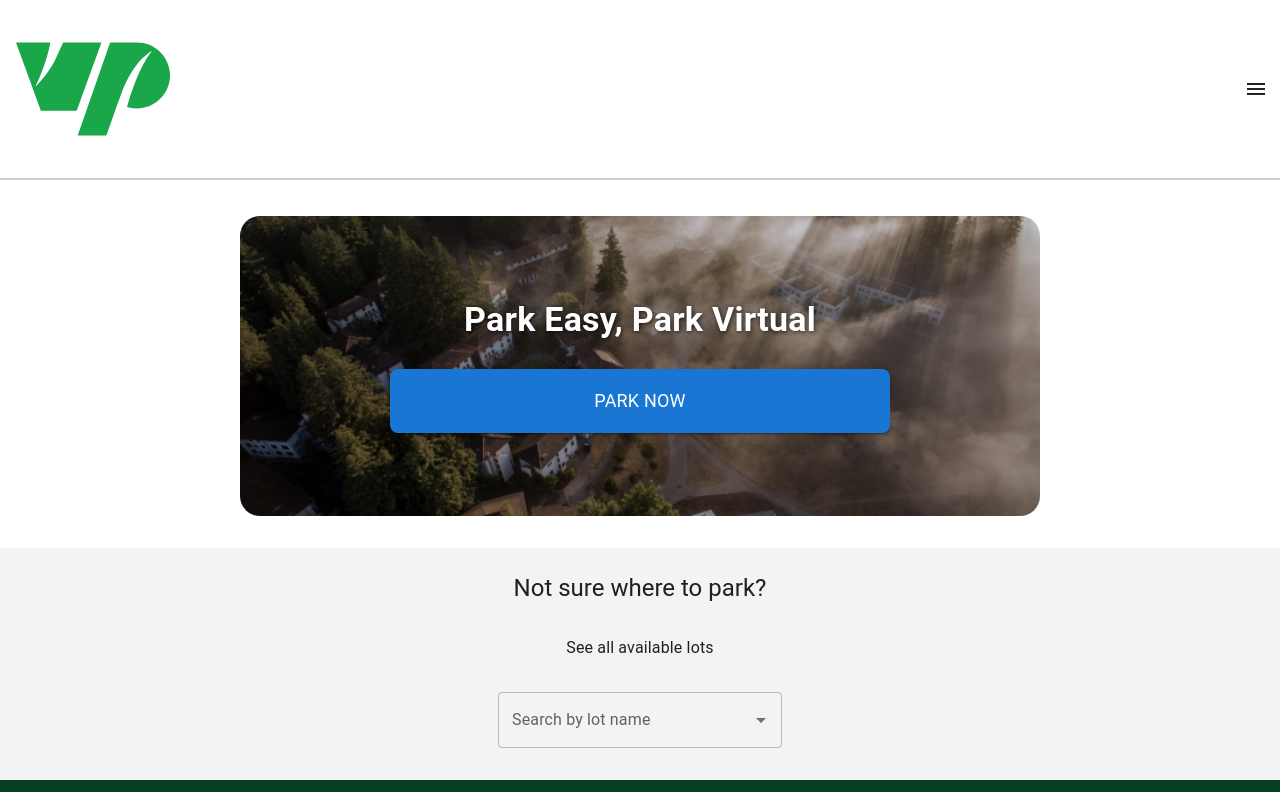
shows "No lots available" when search has no match
Type "Nonexistent Lot" into the dropdown labelled "Search by lot name" at (625, 720), box top-left (507, 701), bottom-right (743, 739)
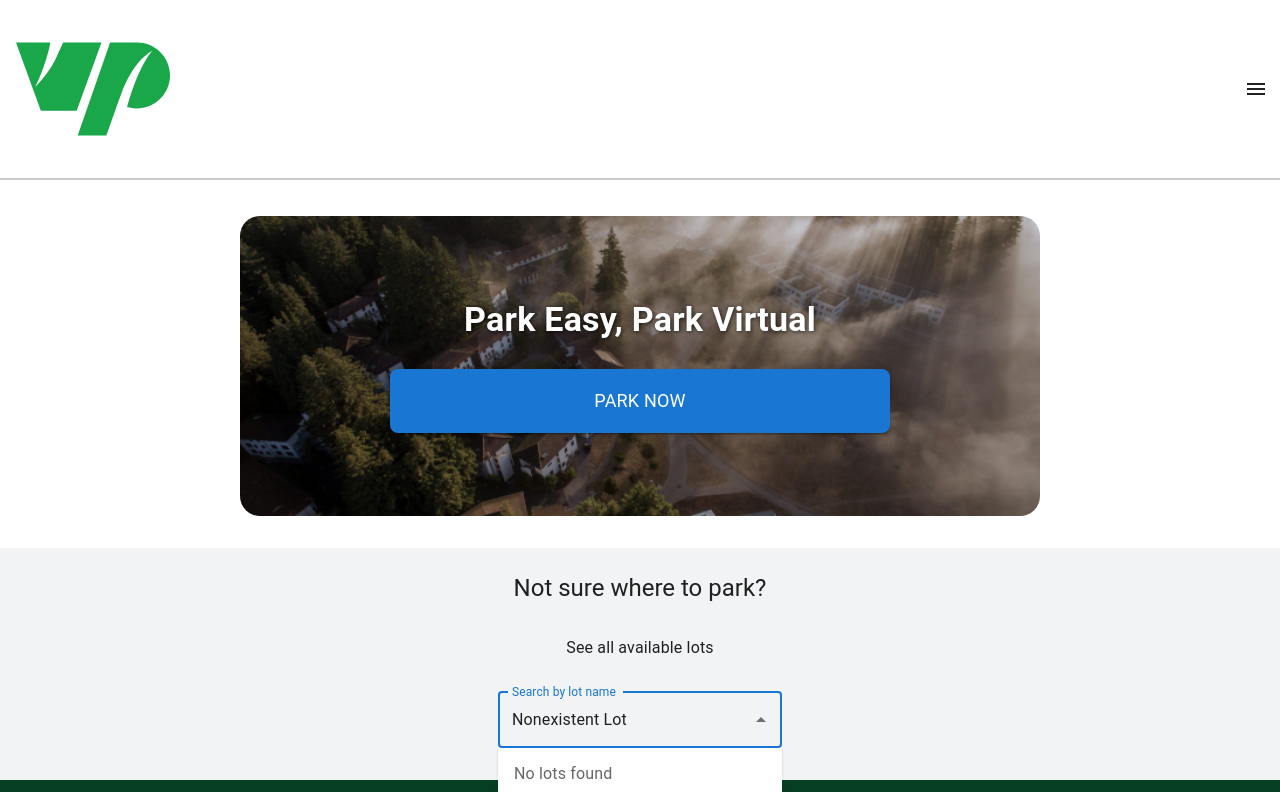
Now the text "No lots found" is shown, box top-left (514, 764), bottom-right (612, 783)
